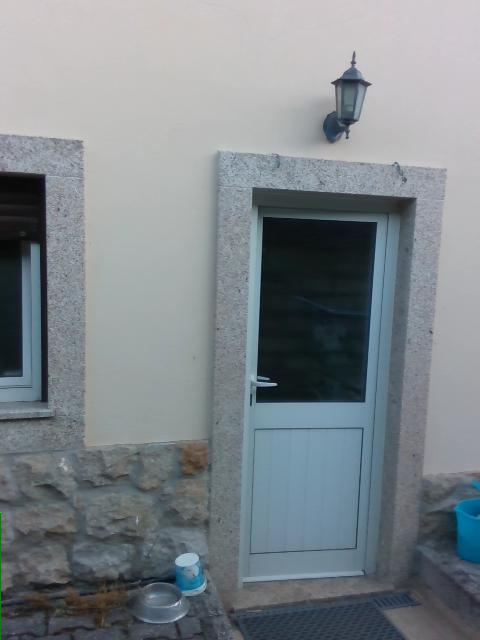door: (230, 194, 409, 592)
